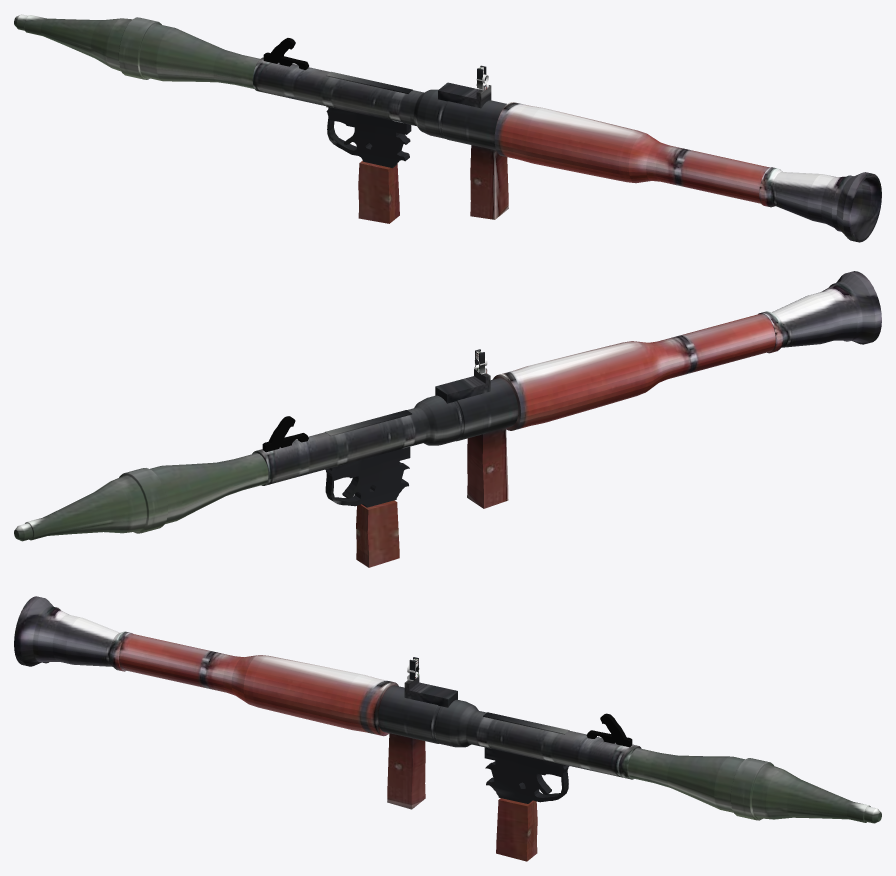
Rendered from Rocket Launcher.glb.
3 views of the same model, one above another, from view 1: azimuth 90°, elevation 25°; view 2: azimuth 150°, elevation 25°; view 3: azimuth 270°, elevation 25° (orthographic). The views are drawn at different scales.
Parts seen in each view (by area): view 1: Cylinder.001, Cylinder.004, Cylinder, Plane, Cylinder.002, Cube.002, Plane.001; view 2: Cylinder.001, Cylinder.004, Cylinder, Plane, Cylinder.002, Cube.002, Plane.001; view 3: Cylinder.001, Cylinder.004, Cylinder, Plane, Cylinder.002, Cube.002, Plane.001.
Part boxes in pixels (x1,y1,x2,y2): Cylinder.001: [494, 102, 769, 203]; Cylinder.004: [14, 14, 259, 88]; Cylinder: [252, 57, 506, 150]; Plane: [326, 71, 508, 223]; Cylinder.002: [759, 167, 881, 242]; Cube.002: [438, 65, 491, 108]; Plane.001: [263, 38, 308, 69]; Cylinder.001: [492, 313, 775, 430]; Cylinder.004: [14, 453, 268, 541]; Cylinder: [252, 378, 518, 485]; Plane: [325, 410, 508, 567]; Cylinder.002: [758, 271, 881, 353]; Cube.002: [435, 349, 490, 403]; Plane.001: [262, 416, 308, 452]; Cylinder.001: [119, 633, 398, 736]; Cylinder.004: [628, 748, 881, 823]; Cylinder: [378, 685, 641, 779]; Plane: [387, 712, 569, 861]; Cylinder.002: [14, 596, 133, 671]; Cube.002: [404, 657, 457, 707]; Plane.001: [586, 713, 632, 747].
Bounding box in the file's own units: 2.16 × 0.8594 × 3.92.
Materials: 7 (6 with a texture image).
